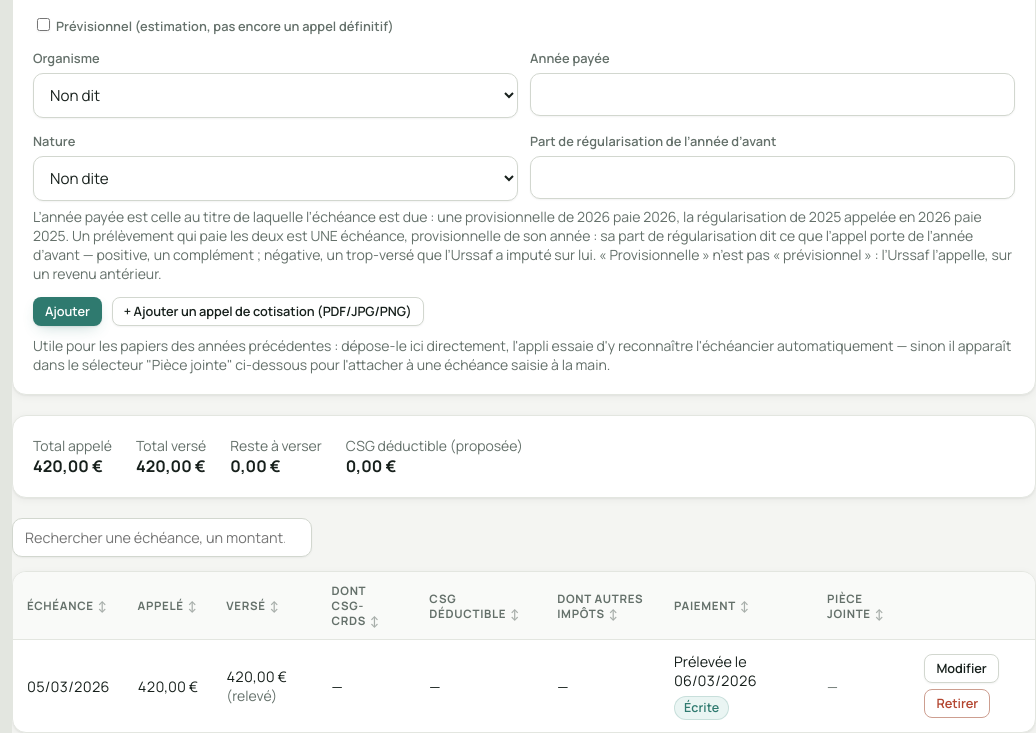
Test: CotisationsTab — retirer une échéance dit ce que ça défait, et passe par la base › retire par la base quand on confirme — jamais par une suppression directe
The image size is (1036, 733).
(page scrolled)
Expected: the text "Écrite" is shown, top-left (674, 696), bottom-right (729, 720)
Click the button "Retirer" at (957, 704), box top-left (924, 689), bottom-right (990, 718)
(page scrolled)
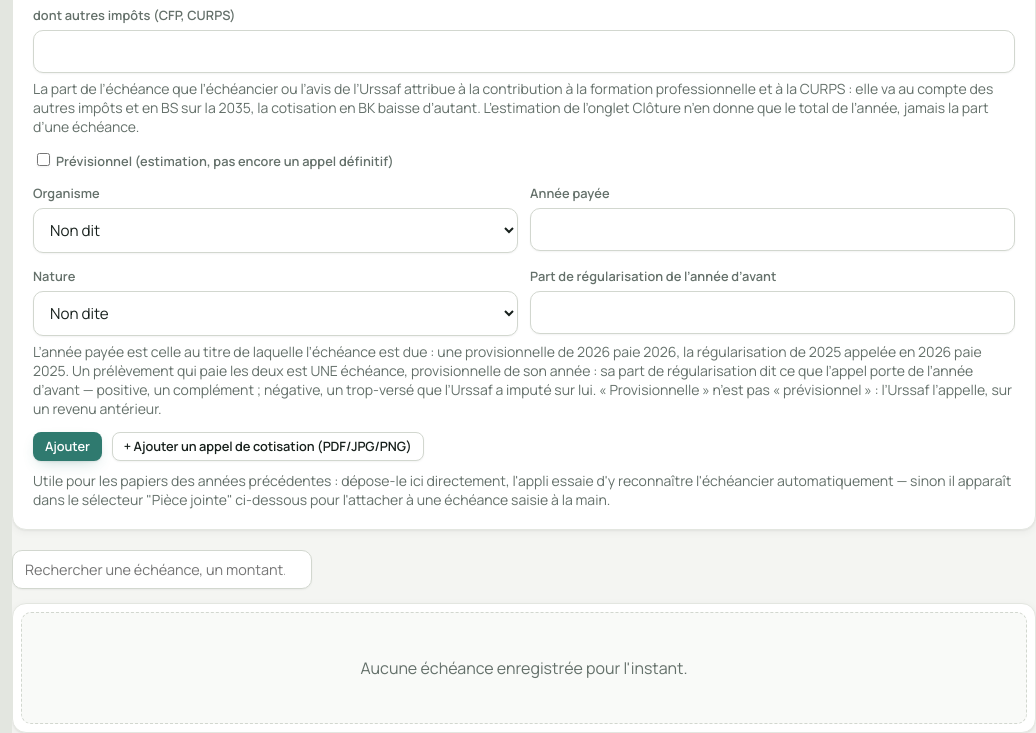
Result: the text "Aucune échéance enregistrée pour l'instant." is shown at top-left (21, 612), bottom-right (1027, 724)
